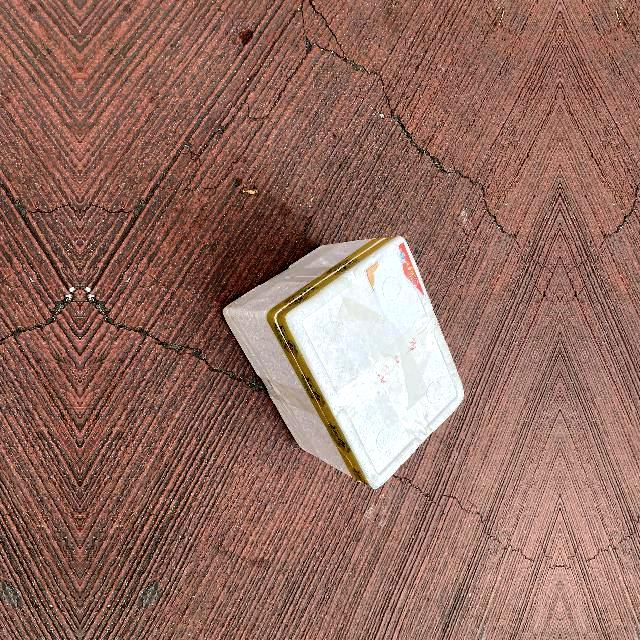Styrofoam: (223, 236, 465, 488), (223, 237, 464, 489)
